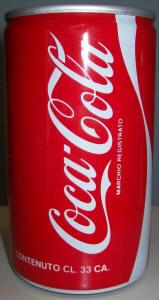metal: (5, 5, 155, 294)
